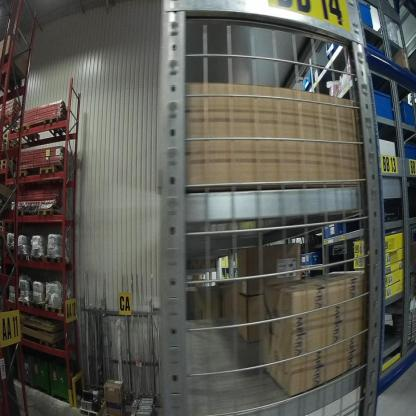pallet: (44, 115, 69, 141), (43, 301, 75, 321), (78, 398, 108, 415), (16, 123, 43, 141), (38, 163, 62, 182), (38, 335, 64, 351), (36, 204, 62, 219), (44, 253, 74, 265), (1, 112, 16, 131), (16, 251, 31, 267), (28, 300, 45, 313), (19, 293, 32, 309), (5, 249, 19, 263), (29, 253, 44, 265), (15, 207, 27, 218), (1, 140, 17, 148), (0, 156, 14, 165), (0, 226, 11, 237), (15, 170, 31, 177), (2, 143, 12, 153), (1, 163, 12, 172), (1, 132, 15, 139), (0, 218, 11, 226)
